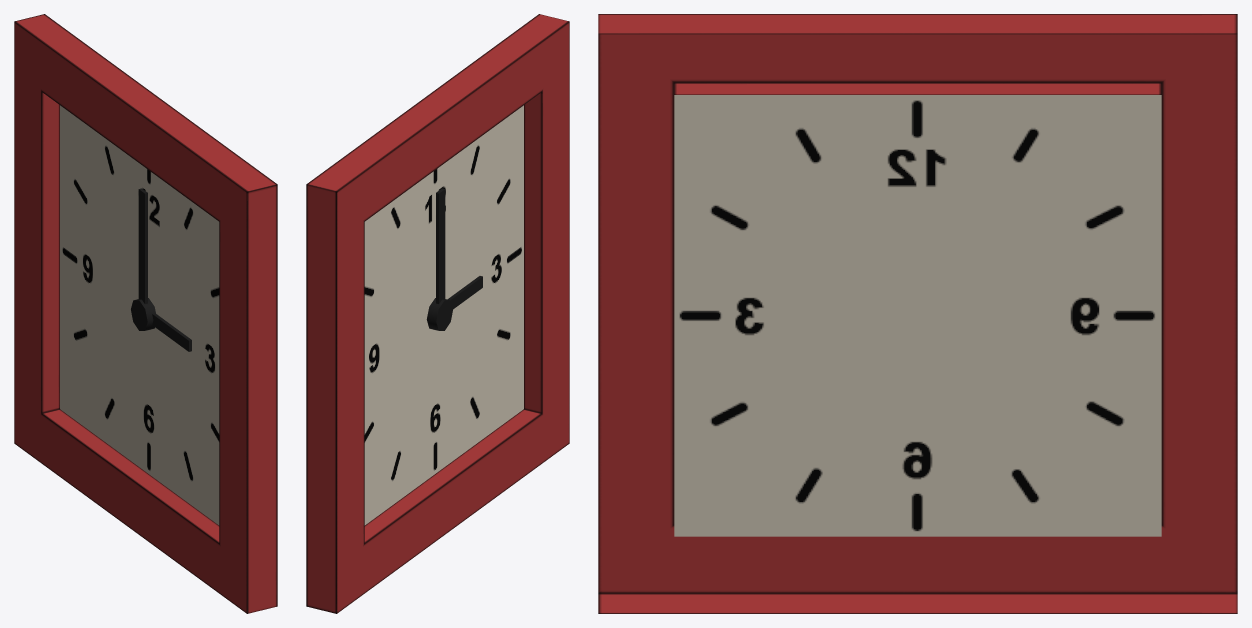
File: clock_red.fbx
3 renders of one model, left to right at view 1: azimuth 30°, elevation 25°; view 2: azimuth 150°, elevation 25°; view 3: azimuth 270°, elevation 25°, orthographic. The views are drawn at different scales.
Parts seen in each view (by area): view 1: clockRed, clockRed_minute, clockRed_hour; view 2: clockRed, clockRed_minute, clockRed_hour; view 3: clockRed.
Boxes of the visible parts, x1,y1,x2,y2 form: clockRed: (14, 14, 277, 613); clockRed_minute: (138, 188, 147, 303); clockRed_hour: (152, 313, 191, 351); clockRed: (306, 14, 569, 613); clockRed_minute: (436, 188, 445, 303); clockRed_hour: (447, 276, 482, 309); clockRed: (598, 14, 1237, 613).
Bounding box in the file's own units: 0.0361 × 0.4765 × 0.4765.
